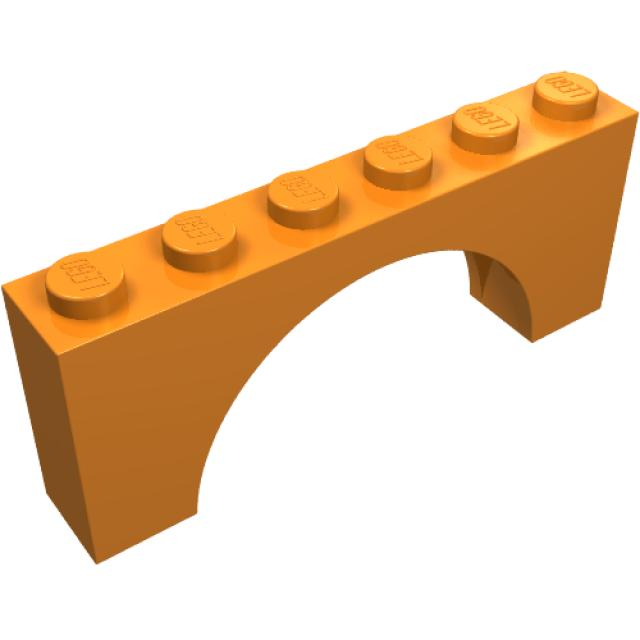Orange_Large: (5, 66, 639, 564)
